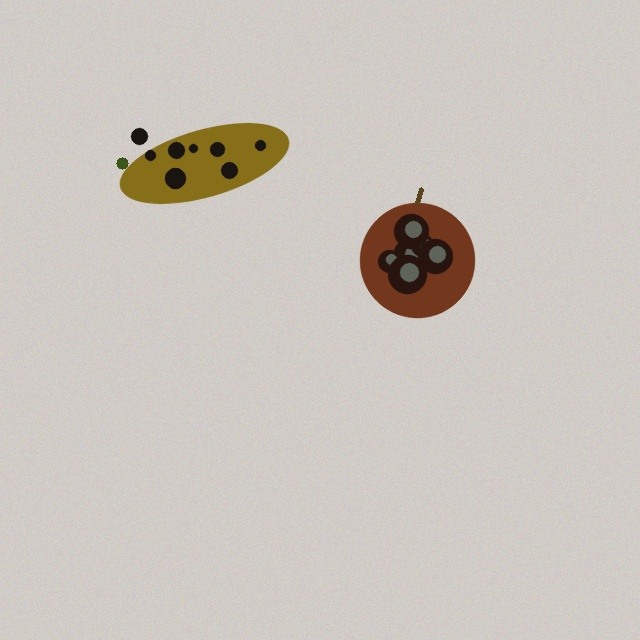Rotten apple: (360, 189, 474, 317)
Rotten banana: (113, 122, 295, 204)
